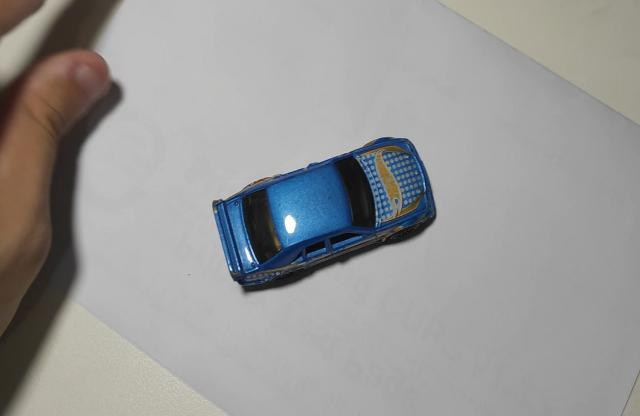04_MERZEDES: (213, 138, 436, 295)
